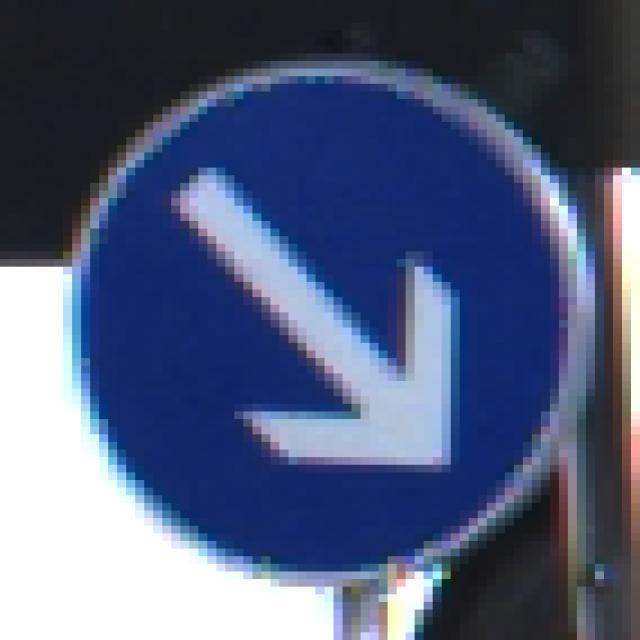compulsary keep right: (69, 62, 592, 583)
